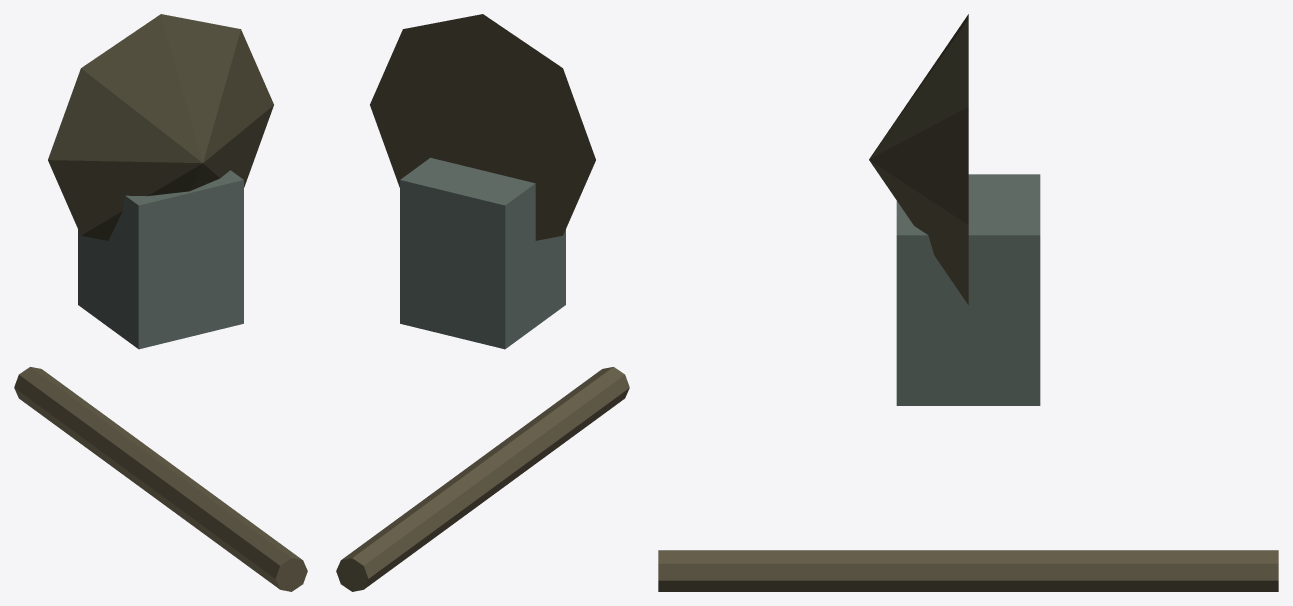
The model's file is lantern.glb.
3 views of the same model, side by side, from view 1: azimuth 30°, elevation 25°; view 2: azimuth 150°, elevation 25°; view 3: azimuth 270°, elevation 25° (orthographic). The views are drawn at different scales.
Visible parts, largest first — view 1: world; view 2: world; view 3: world.
Boxes of the visible parts, <box> form: world: <box>14,14,307,591</box>; world: <box>336,14,629,591</box>; world: <box>658,14,1278,591</box>.
Size of the model in its own units: 1.4 by 2.85 by 2.8.
